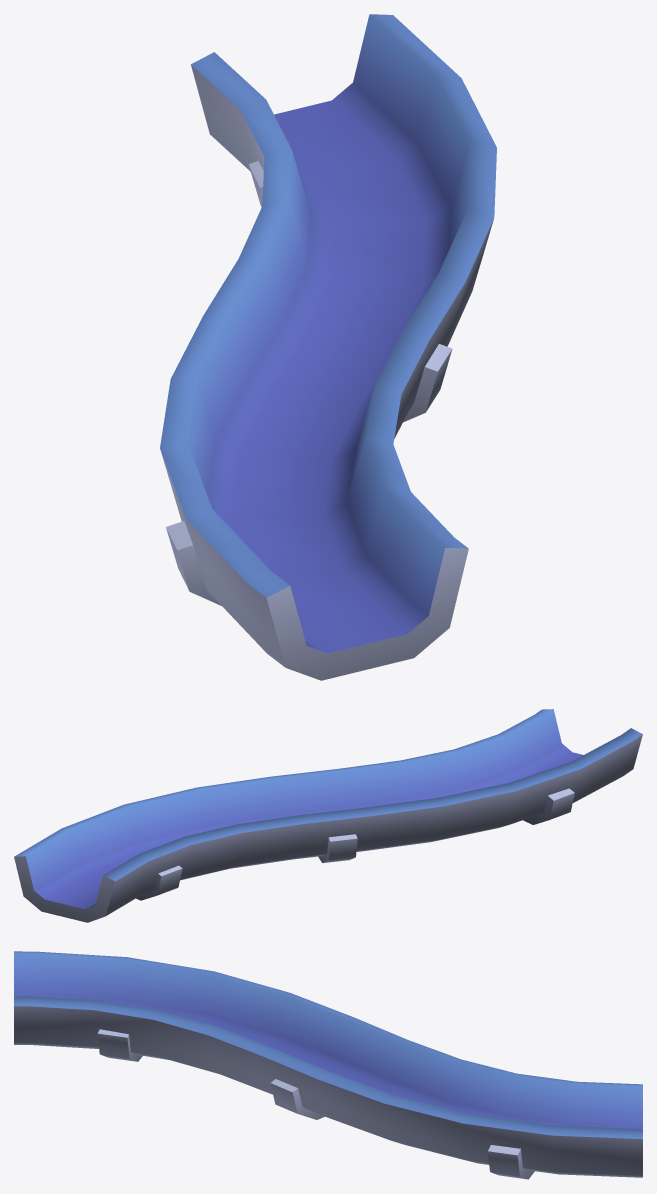
Rendered from kenney-coaster-coaster-flume-curve.glb.
3 views of the same model, one above another, from view 1: azimuth 30°, elevation 25°; view 2: azimuth 150°, elevation 25°; view 3: azimuth 270°, elevation 25° (orthographic). The views are drawn at different scales.
Visible parts, largest first — view 1: coaster-flume-curve; view 2: coaster-flume-curve; view 3: coaster-flume-curve.
Part boxes in pixels (x1,y1,x2,y2): coaster-flume-curve: (160,14,496,680); coaster-flume-curve: (14,709,642,922); coaster-flume-curve: (14,951,642,1179).
Size of the model in its own units: 2.83 by 0.4507 by 4.
Materials: 1 (1 with a texture image).
